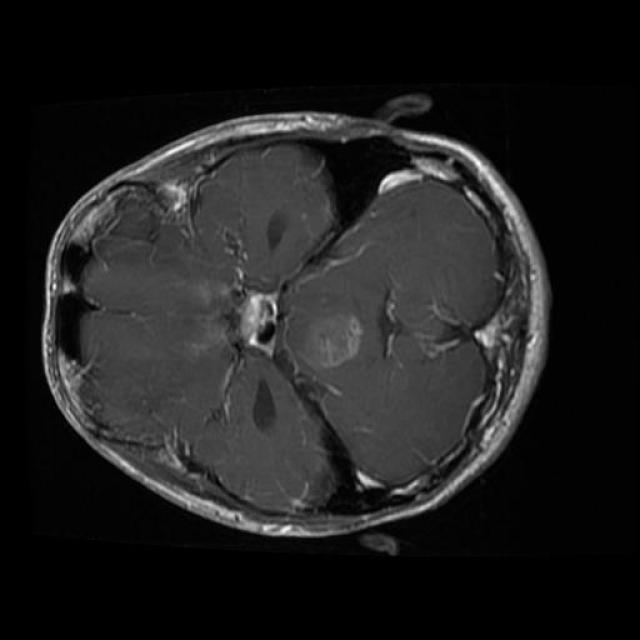Glioma: (302, 314, 362, 368)
